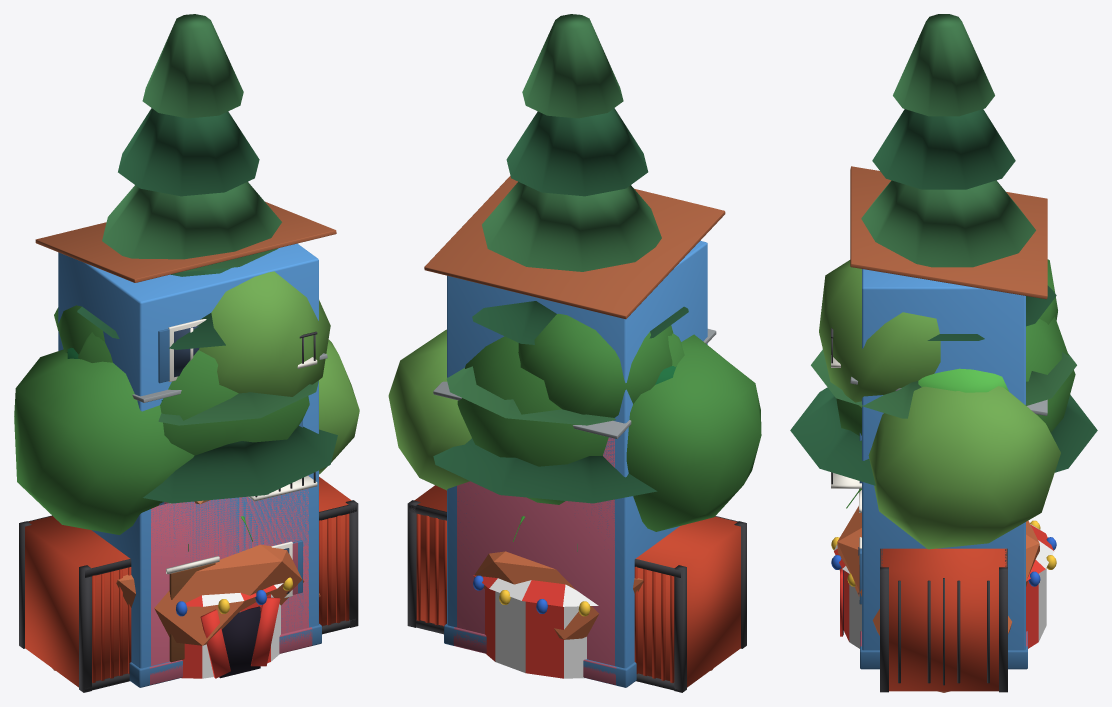
File: props.glb
3 views of the same model, side by side, from view 1: azimuth 30°, elevation 25°; view 2: azimuth 150°, elevation 25°; view 3: azimuth 270°, elevation 25° (orthographic).
Parts seen in each view (by area): view 1: beech, cedar, townhouse_b, container, townhouse_a, mesa, tent; view 2: beech, cedar, townhouse_b, container, townhouse_a, tent, mesa; view 3: beech, cedar, townhouse_b, container, tent, mesa, jungletree, townhouse_a.
Boxes of the visible parts, left/top/right/bottom form: beech: left=14, top=271, right=359, bottom=534; cedar: left=77, top=14, right=337, bottom=503; townhouse_b: left=35, top=201, right=336, bottom=687; container: left=19, top=477, right=358, bottom=692; townhouse_a: left=132, top=353, right=327, bottom=684; mesa: left=116, top=500, right=320, bottom=645; tent: left=176, top=577, right=292, bottom=678; beech: left=388, top=313, right=761, bottom=531; cedar: left=433, top=14, right=688, bottom=503; townhouse_b: left=424, top=176, right=725, bottom=687; container: left=407, top=485, right=746, bottom=692; townhouse_a: left=433, top=329, right=716, bottom=684; tent: left=473, top=575, right=598, bottom=678; mesa: left=473, top=551, right=643, bottom=639; beech: left=819, top=259, right=1075, bottom=549; cedar: left=790, top=14, right=1097, bottom=485; townhouse_b: left=831, top=166, right=1047, bottom=669; container: left=880, top=548, right=1007, bottom=692; tent: left=831, top=520, right=1056, bottom=648; mesa: left=837, top=506, right=1039, bottom=635; jungletree: left=918, top=368, right=1008, bottom=392; townhouse_a: left=831, top=376, right=1047, bottom=646.
Size of the model in its own units: 7.36 by 13.47 by 6.
